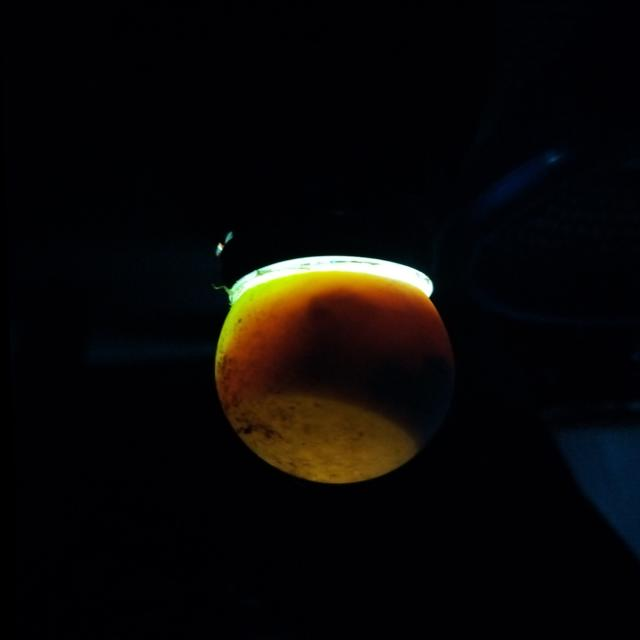Area Infectada: (256, 295, 455, 447)
